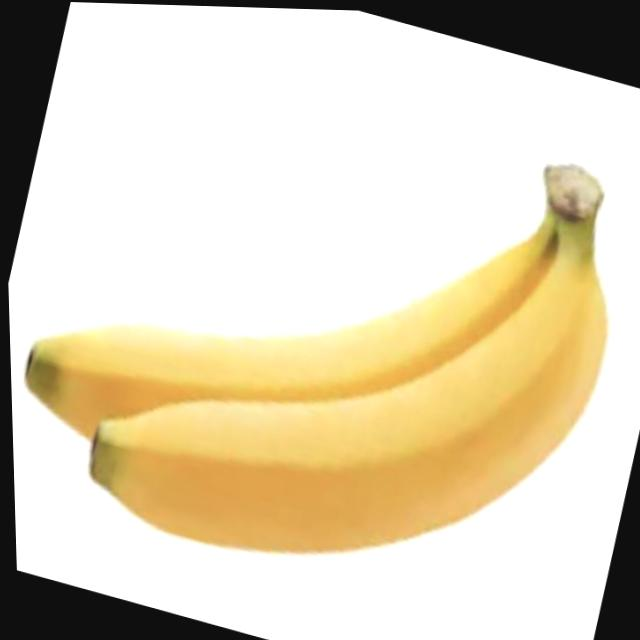Banana: (1, 26, 640, 637)
